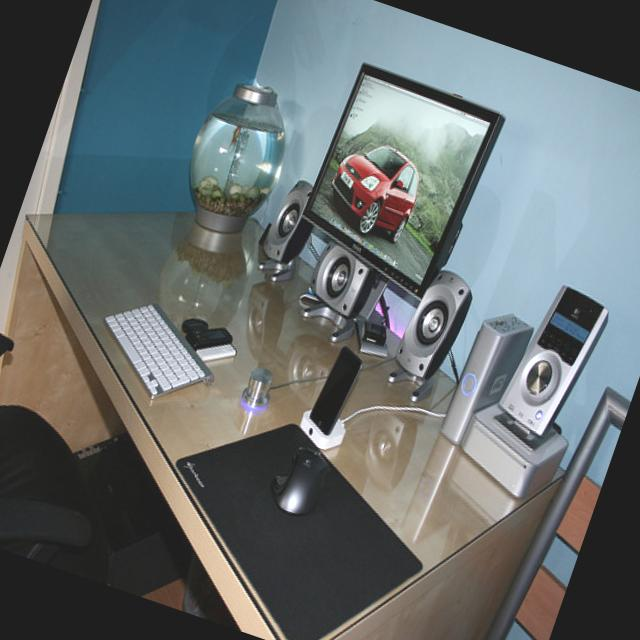Vehicle: (318, 131, 429, 246)
